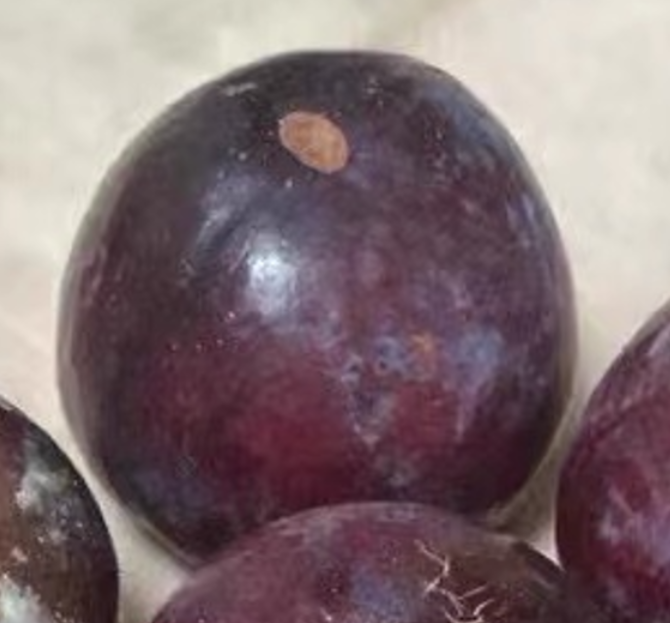plum_B: (55, 50, 581, 570)
